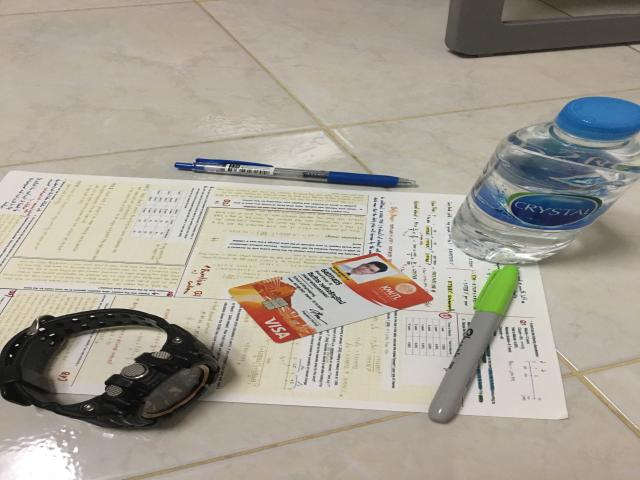Pen: (428, 265, 518, 423), (175, 158, 415, 187)
Wallet: (452, 97, 640, 263)
Watch: (0, 308, 220, 428)
paper: (0, 172, 570, 420)
